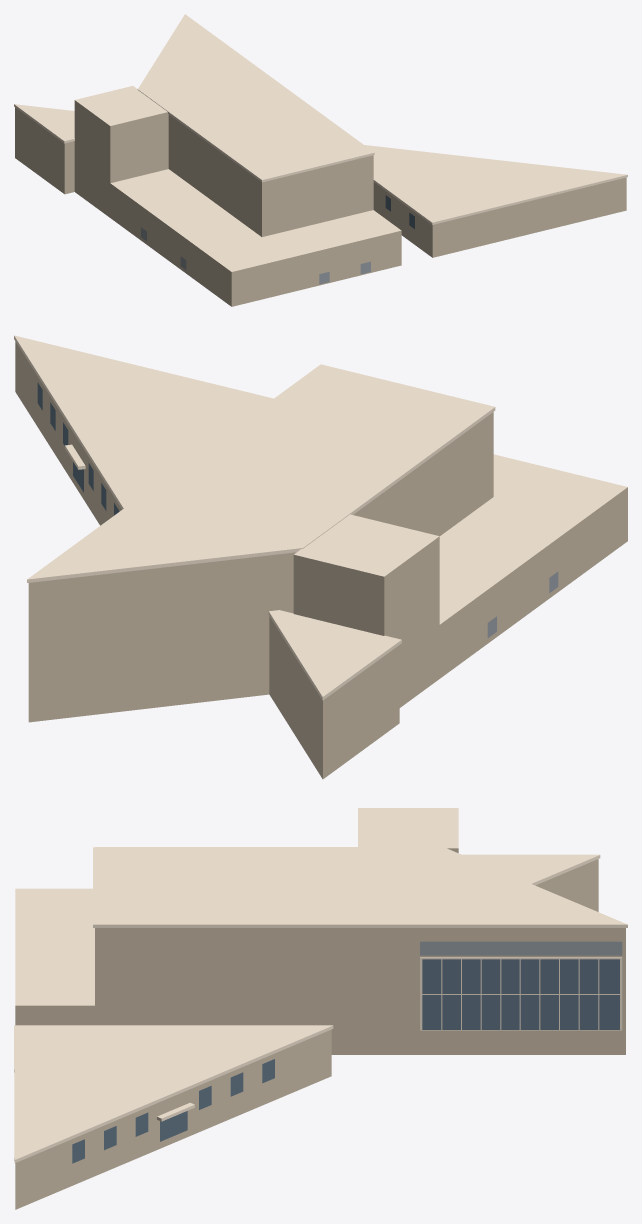
File: slc-abravanel-hall.glb
The picture shows the model from 3 angles, top to bottom: view 1: azimuth 30°, elevation 25°; view 2: azimuth 150°, elevation 25°; view 3: azimuth 270°, elevation 25°; orthographic projection. The views are drawn at different scales.
Parts seen in each view (by area): view 1: Abravanel Hall; view 2: Abravanel Hall; view 3: Abravanel Hall.
Part boxes in pixels (x1,y1,x2,y2): Abravanel Hall: (14, 14, 627, 306); Abravanel Hall: (14, 335, 627, 779); Abravanel Hall: (14, 808, 627, 1209).
Bounding box in the file's own units: 118 × 25.75 × 110.
